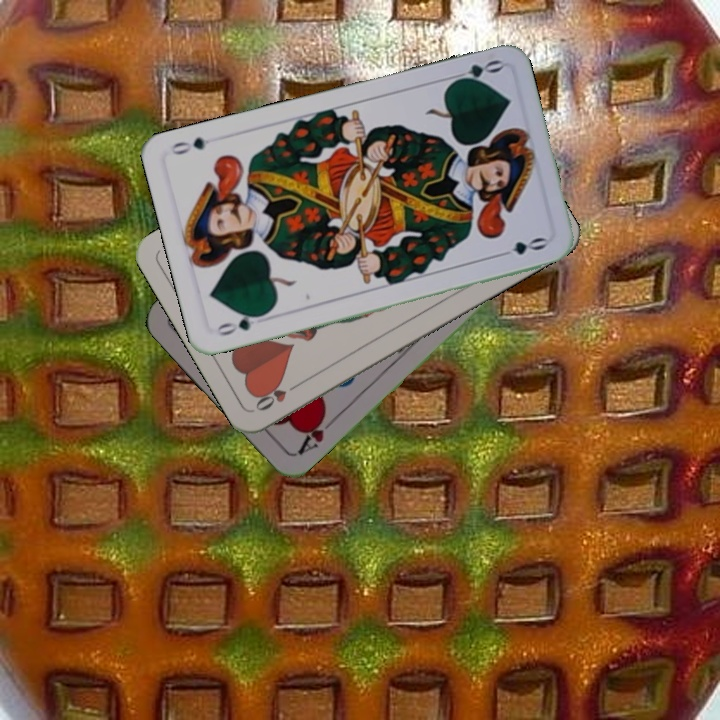GO: (446, 55, 505, 87), (212, 309, 269, 339)
HA: (293, 408, 339, 458)
HO: (251, 378, 305, 414)
